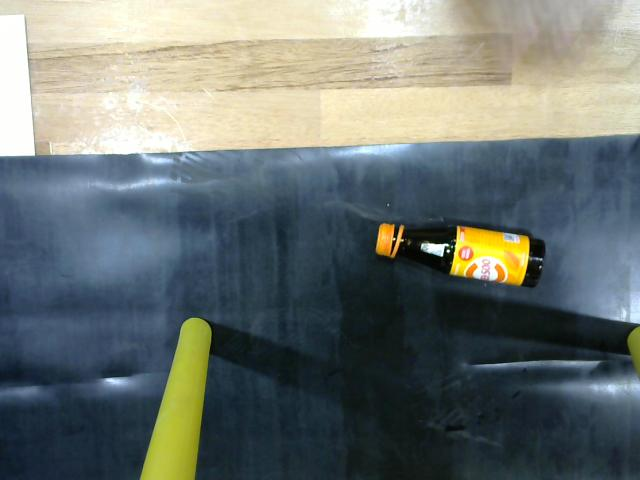glass: (371, 211, 554, 298)
